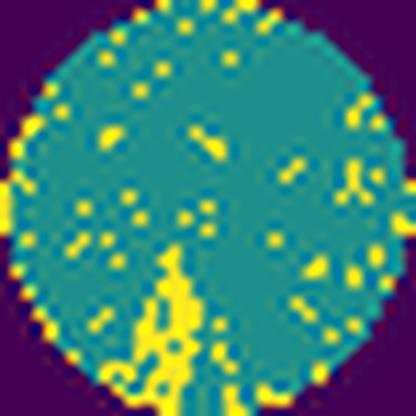Loc: (99, 242, 206, 413)
